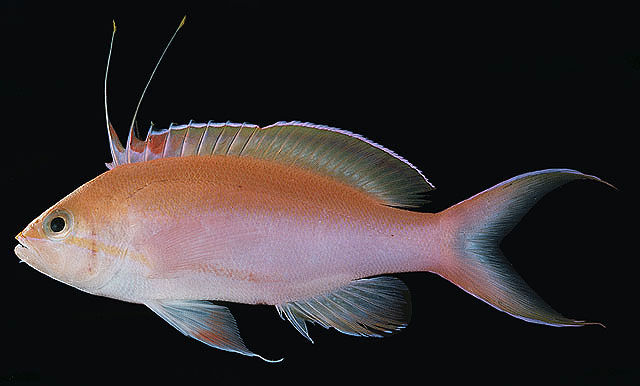fish: (14, 16, 618, 362)
